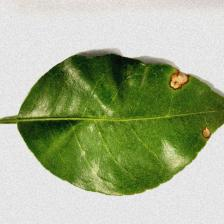canker: (145, 65, 212, 111)
